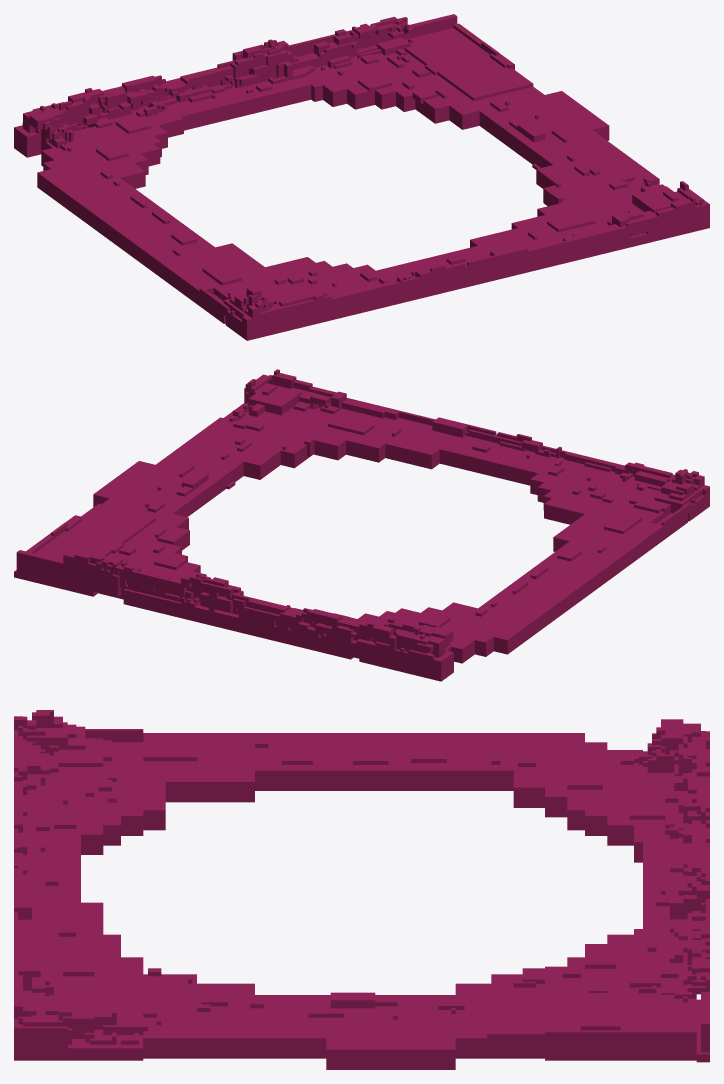
Rendered from ZonaMundoPelea-2-ZonaEnemigo.obj.
3 renders of one model, top to bottom at view 1: azimuth 30°, elevation 25°; view 2: azimuth 150°, elevation 25°; view 3: azimuth 270°, elevation 25°, orthographic. The views are drawn at different scales.
Parts seen in each view (by area): view 1: ZonaEnemigo; view 2: ZonaEnemigo; view 3: ZonaEnemigo.
Part boxes in pixels (x1,y1,x2,y2): ZonaEnemigo: [14, 14, 709, 340]; ZonaEnemigo: [14, 369, 709, 681]; ZonaEnemigo: [14, 710, 709, 1069].
Size of the model in its own units: 16.8 by 1.6 by 15.6.
1 material, 1 textured.
